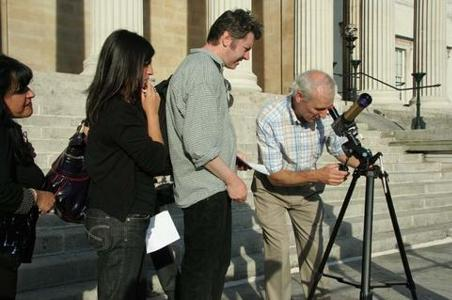person: (250, 71, 366, 300)
